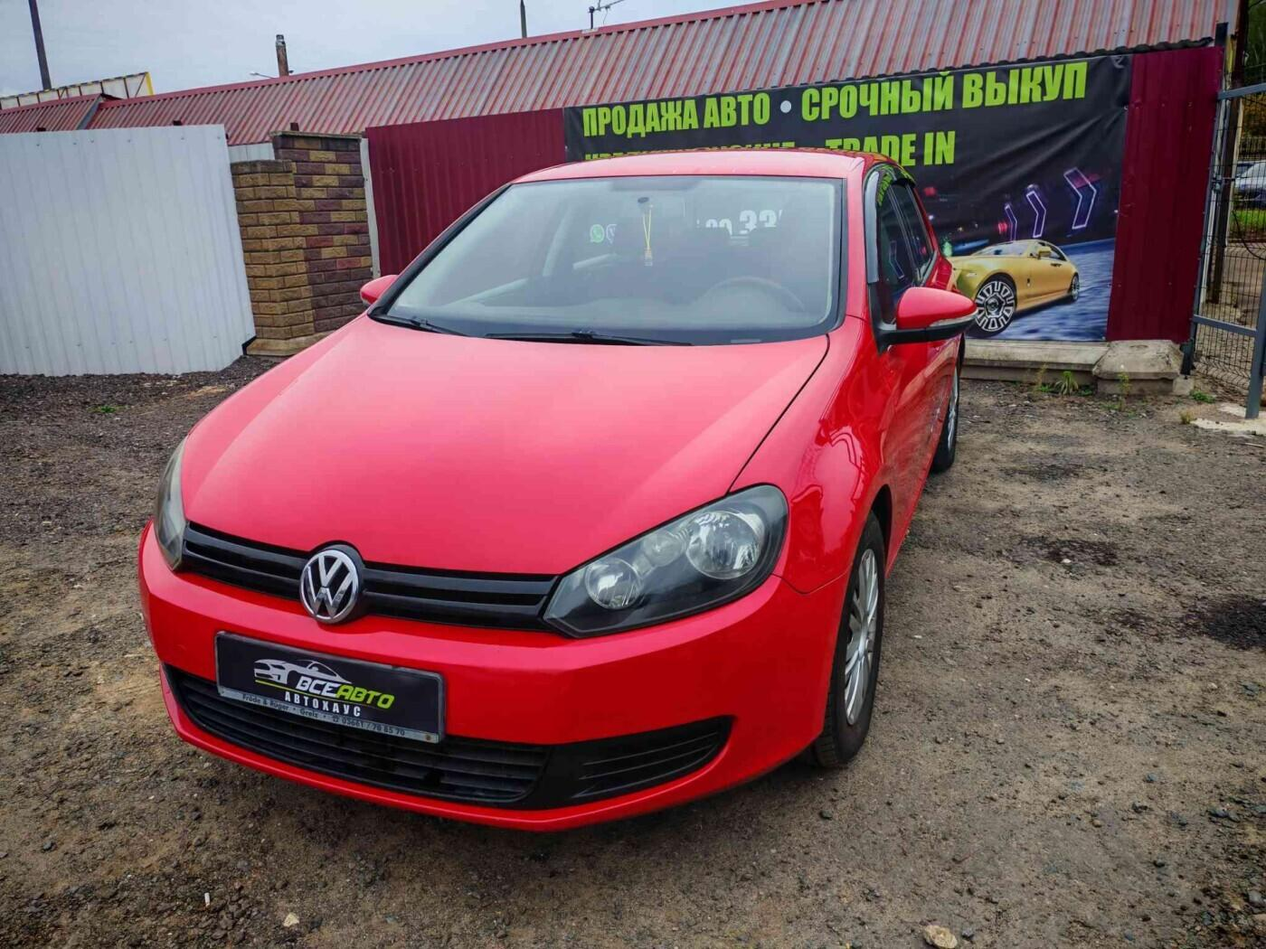Golf_2008-2013: (136, 145, 976, 821)
